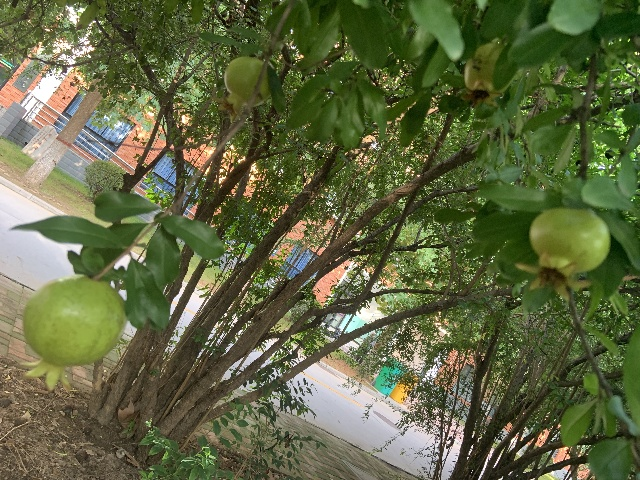mid-growth: (19, 275, 126, 391), (515, 206, 611, 300), (215, 55, 271, 120), (460, 42, 514, 109)
